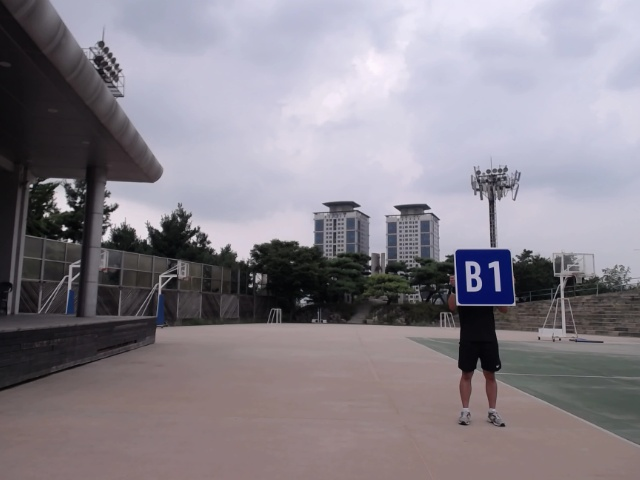delivery_b1: (453, 248, 516, 306)
